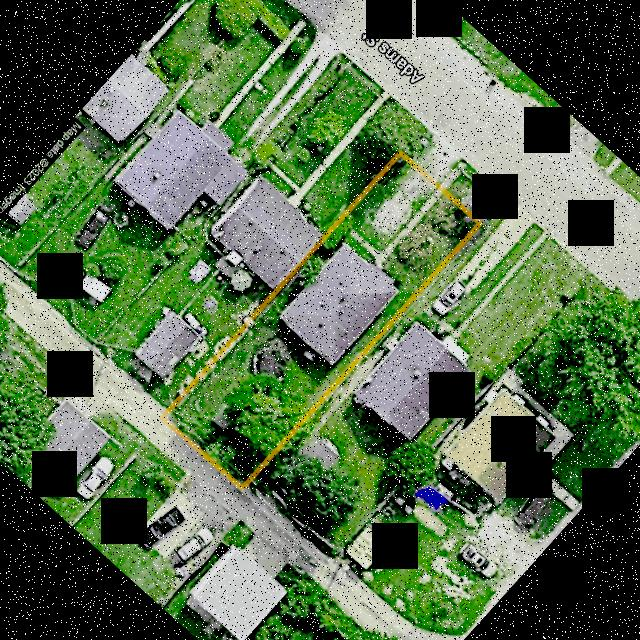Driveway: (370, 171, 431, 232)
Extra Driveway: (419, 139, 459, 181)
Extra Lawn: (460, 162, 502, 205), (447, 170, 481, 197)
Extra Sidewalk: (440, 167, 459, 187)
House: (279, 243, 396, 363)
Other: (252, 338, 289, 378), (459, 187, 497, 223), (212, 412, 229, 429)
Sidewalk: (349, 189, 440, 264)
